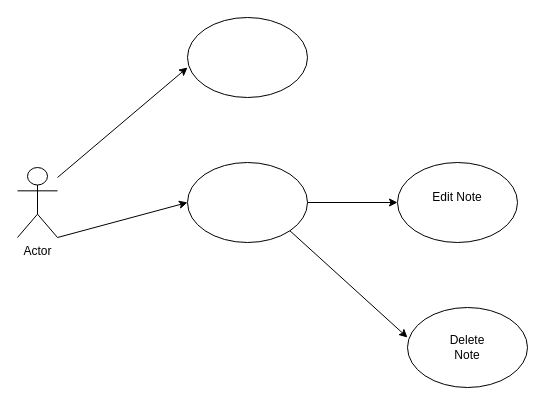
Some shapes in this 545 by 405 pixel diagram are drawn without their labels. The centre of each missing label's shape, as x and y in pixels:
Add Notes: point 247,57
View Notes: point 247,202
